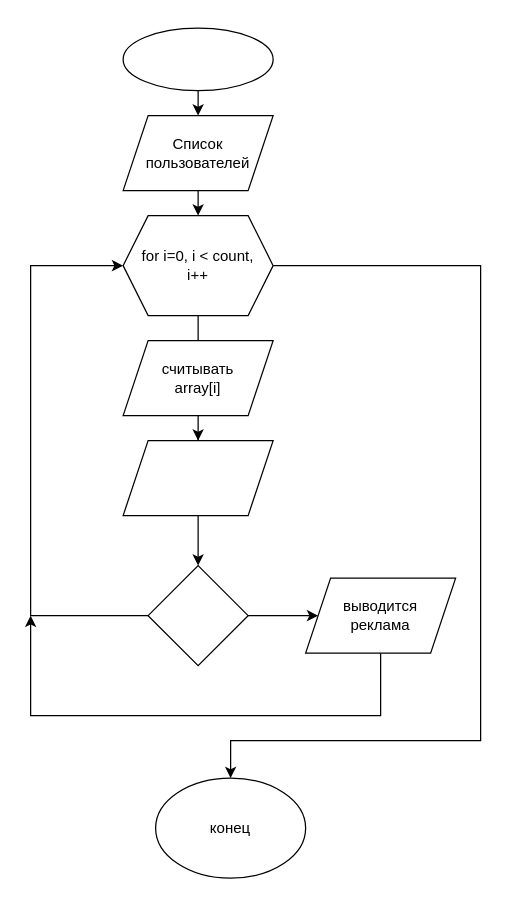
Image size: 513x900. Some labels were removed from this diagram. Each missing label, with the box of its shape:
IsPremium: (147, 564, 248, 666)
начало: (122, 27, 273, 91)
приветствие по имени: (122, 439, 273, 516)
